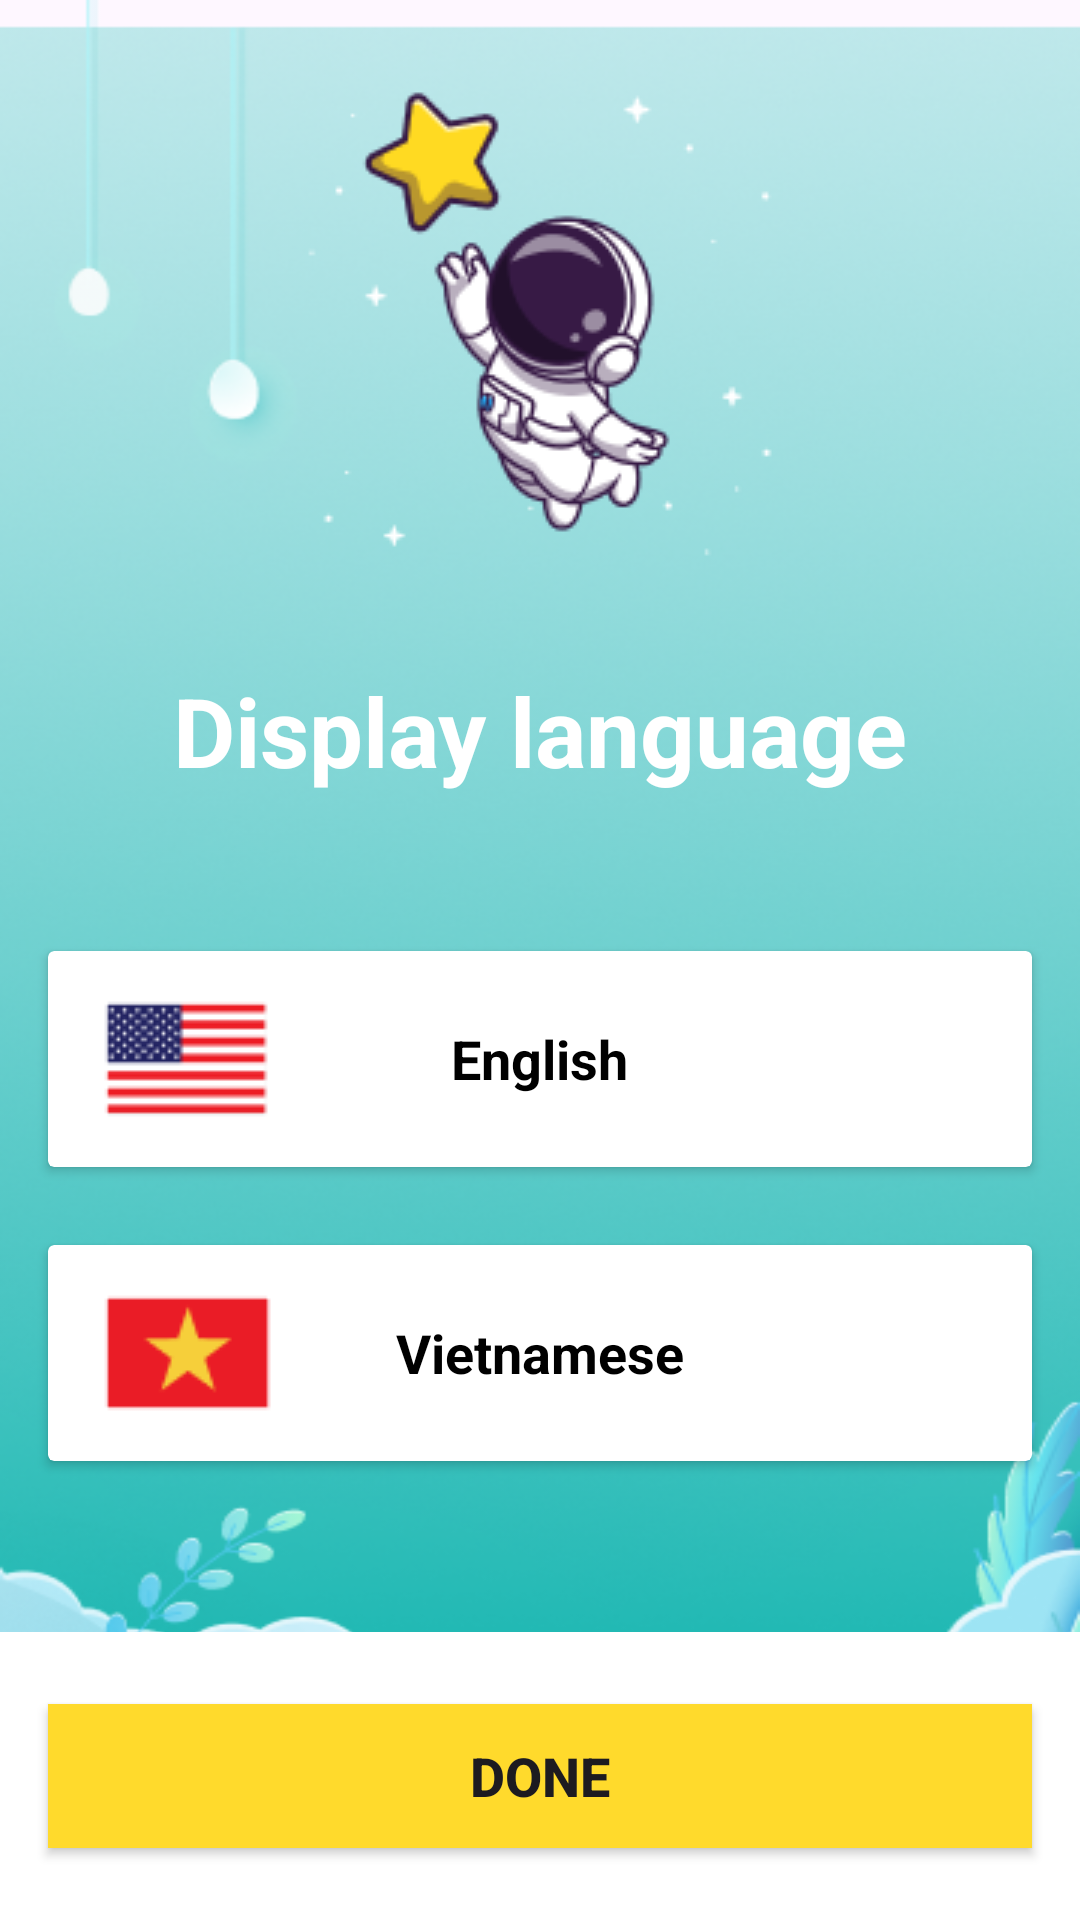

Named icons in this screenshot (1080w x 1920h) and their bounding boxes, (x1, y1, x2, y2):
americain: (106, 1003, 268, 1114)
